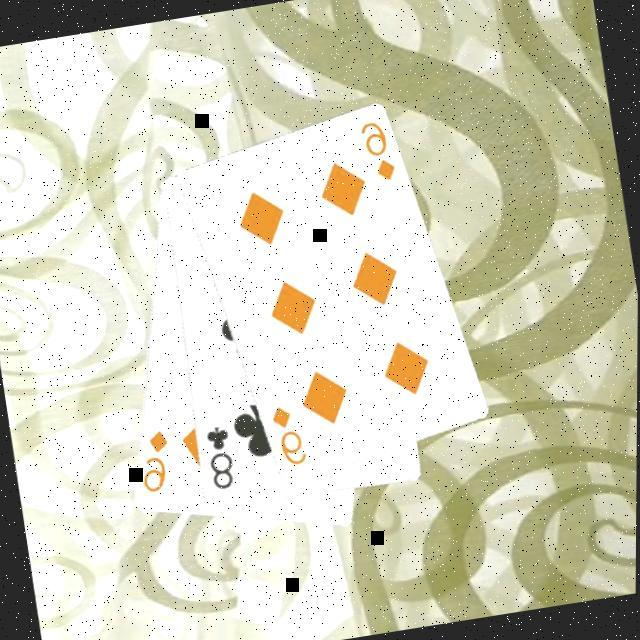6D: (268, 398, 314, 472), (357, 114, 402, 188)
8C: (202, 420, 242, 493)
9D: (135, 425, 181, 496)
